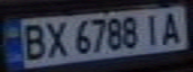6: (72, 16, 93, 55)
7: (87, 16, 109, 53)
8: (121, 14, 142, 50), (106, 15, 127, 51)
A: (157, 9, 187, 45)
B: (18, 20, 51, 62)
I: (139, 10, 166, 47)
X: (42, 18, 69, 60)
